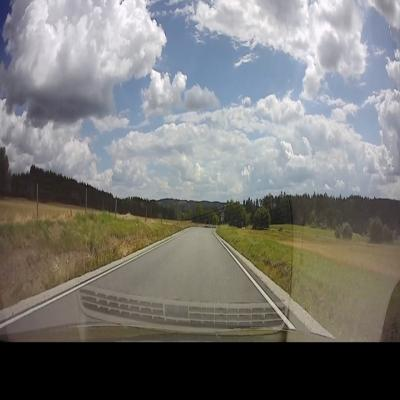clear-road: (93, 228, 265, 302)
